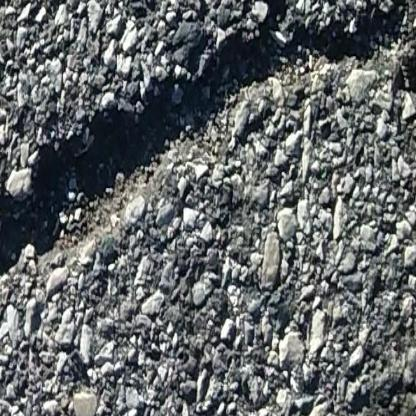Cracks: (0, 0, 416, 291)
